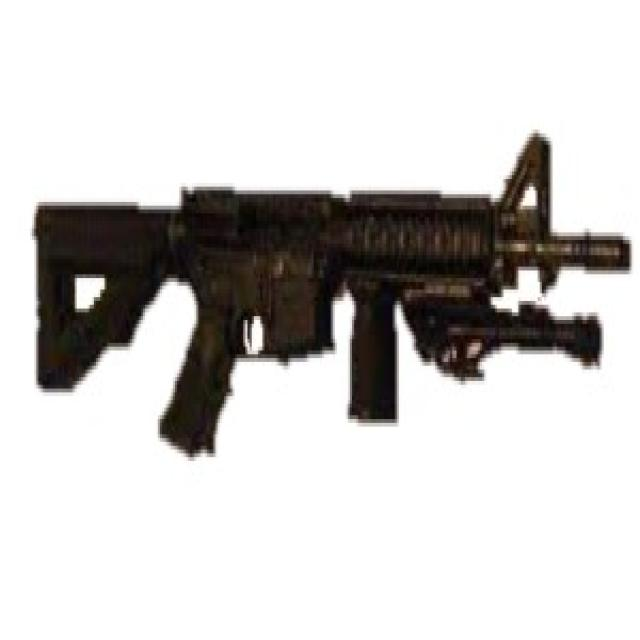rifle: (26, 122, 637, 469)
